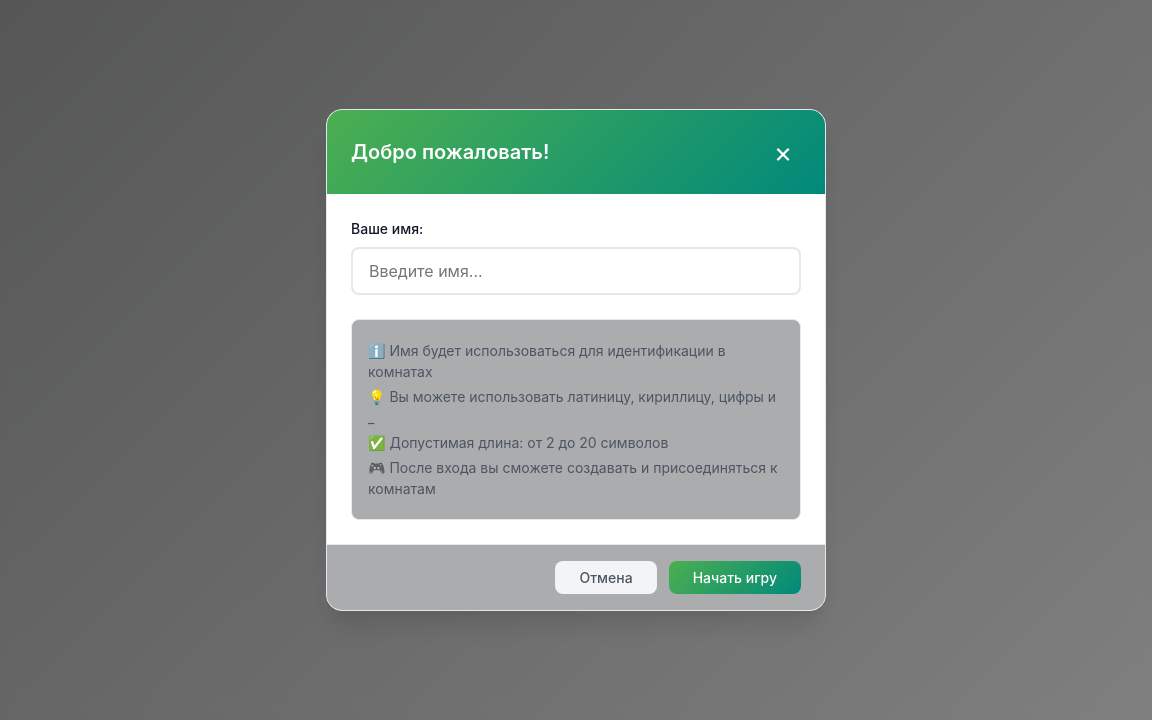
UserModal › validates username too short
Type "a" into the field labelled "Ваше имя:". click: (576, 271)
box: [351,247,801,295]
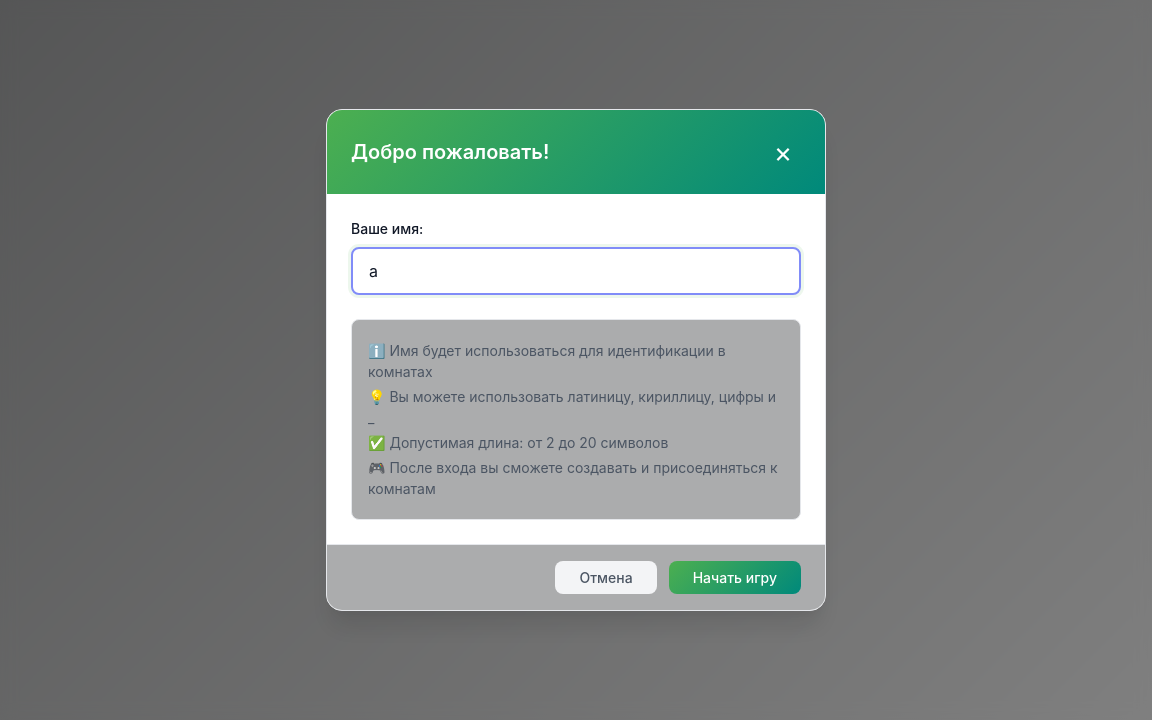
Click the button "Начать игру". click: click(735, 578)
box: [669,561,801,594]
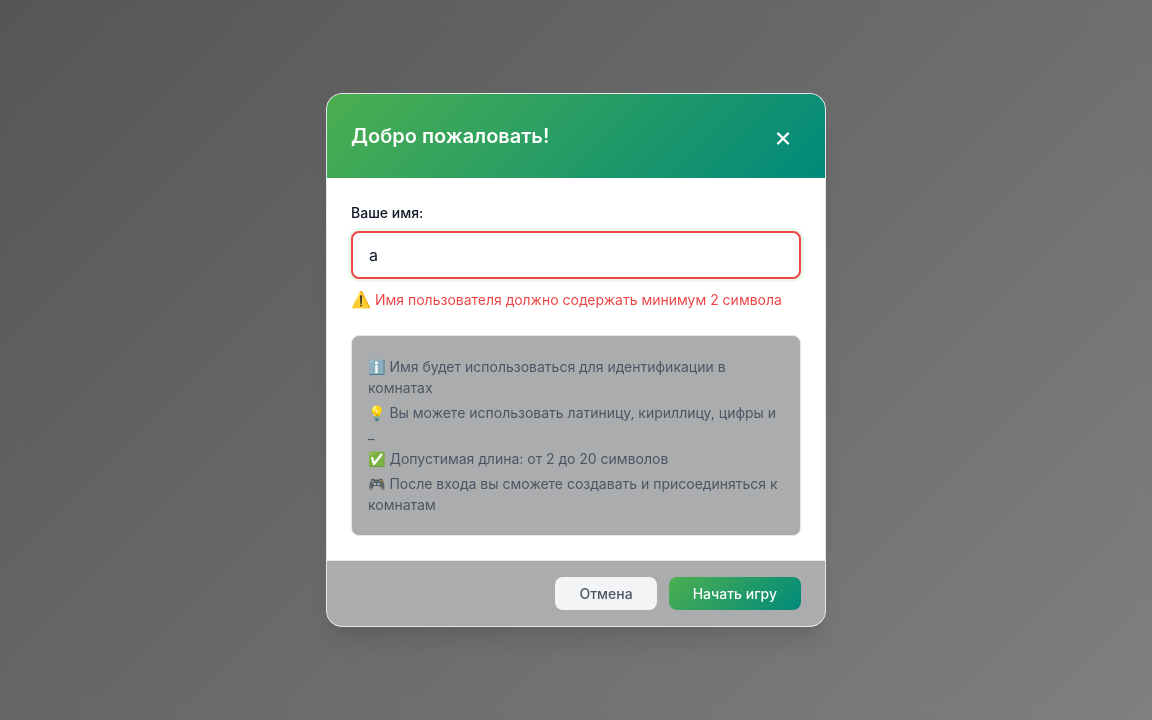
Expected: the text "Имя пользователя должно содержать минимум 2 символа" is shown, [351,287,801,311]
